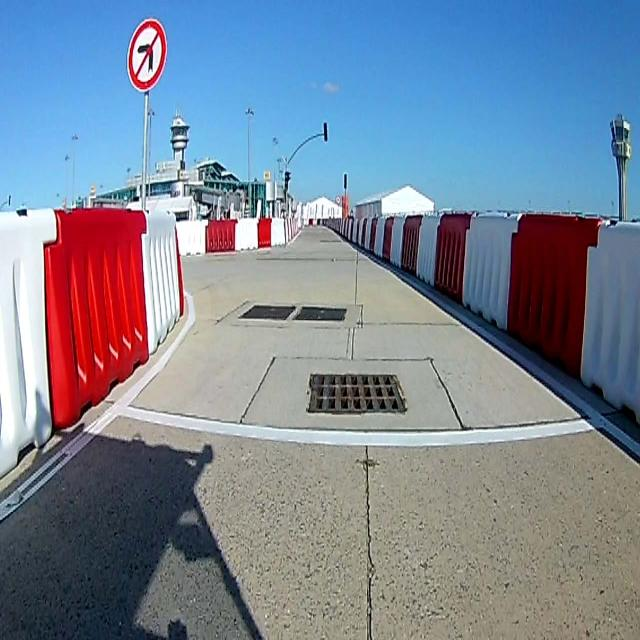soladonulmez: (126, 20, 168, 88)
